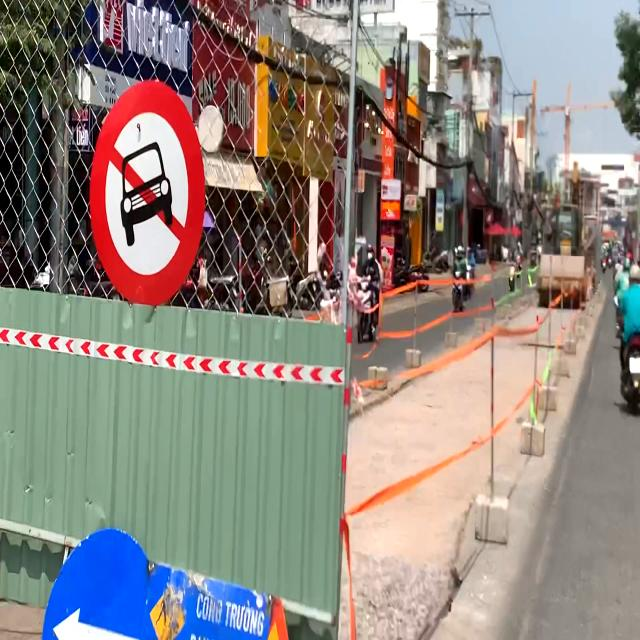P.103a: (88, 78, 207, 310)
